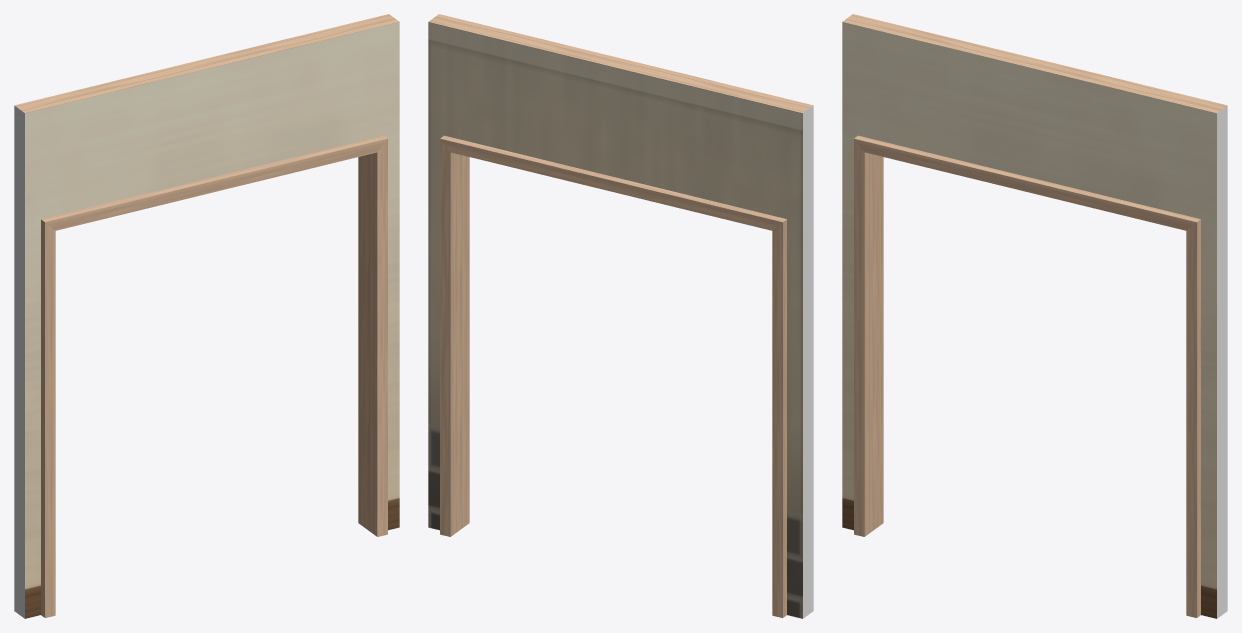
The model's file is wallDoorwayWide.glb.
3 views of the same model, side by side, from view 1: azimuth 30°, elevation 25°; view 2: azimuth 150°, elevation 25°; view 3: azimuth 330°, elevation 25° (orthographic).
Parts seen in each view (by area): view 1: wallDoorwayWide; view 2: wallDoorwayWide; view 3: wallDoorwayWide.
Part boxes in pixels (x1,y1,x2,y2): wallDoorwayWide: (14, 14, 399, 618); wallDoorwayWide: (428, 14, 813, 618); wallDoorwayWide: (842, 14, 1227, 618).
Size of the model in its own units: 1 by 1.29 by 0.0891.
Materials: 4 (3 with a texture image).
